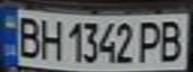1: (63, 18, 84, 63)
2: (115, 19, 139, 65)
3: (81, 19, 100, 64)
4: (97, 19, 118, 64)
B: (154, 17, 190, 63), (12, 13, 42, 60)
H: (36, 16, 63, 61)
P: (136, 18, 166, 64)
